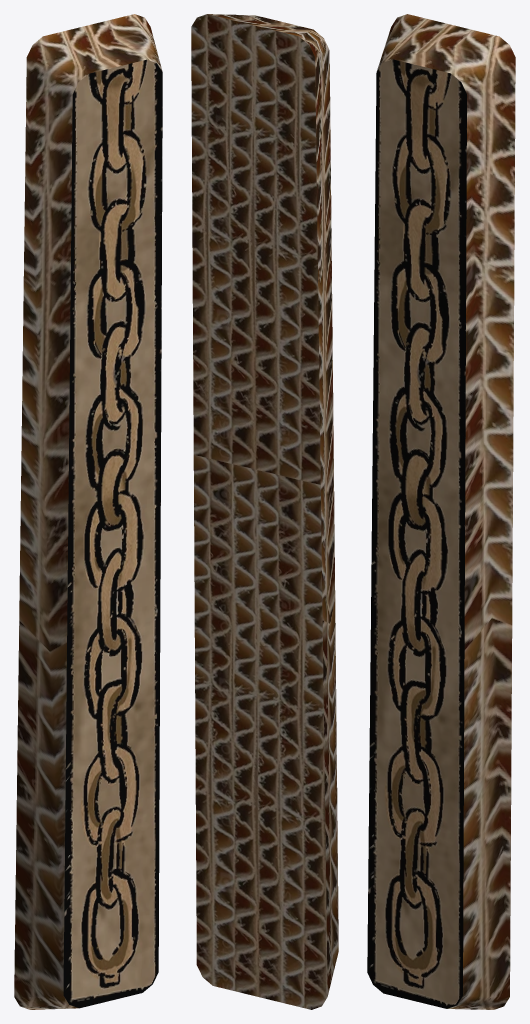
File: chain-1.glb
3 views of the same model, side by side, from view 1: azimuth 30°, elevation 25°; view 2: azimuth 150°, elevation 25°; view 3: azimuth 330°, elevation 25° (orthographic).
Parts seen in each view (by area): view 1: chain-1; view 2: chain-1; view 3: chain-1.
Part boxes in pixels (bbox=[...]): chain-1: bbox=[14, 14, 162, 1009]; chain-1: bbox=[191, 14, 338, 1009]; chain-1: bbox=[367, 14, 515, 1009].
Bounding box in the file's own units: 0.1188 × 0.8071 × 0.0456.
Materials: 1 (1 with a texture image).
